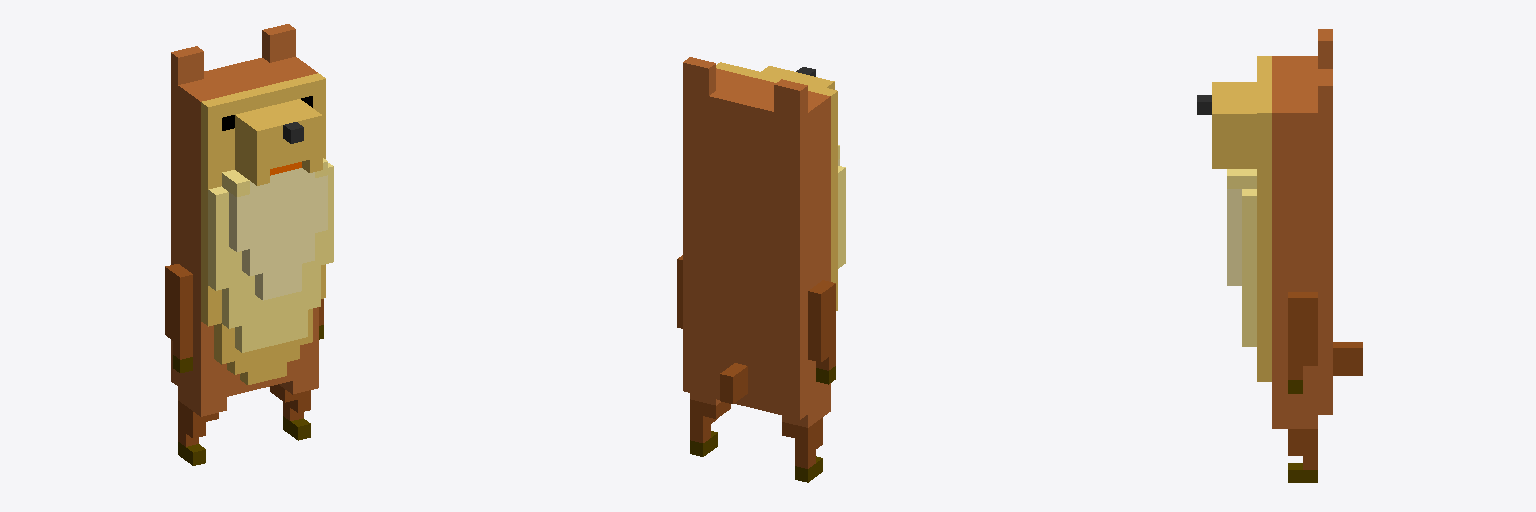
The picture shows the model from 3 angles: view 1: azimuth 30°, elevation 25°; view 2: azimuth 150°, elevation 25°; view 3: azimuth 270°, elevation 25°; orthographic projection.
Size of the model in its own units: 11 by 29 by 11.
Materials: 1 (1 with a texture image).